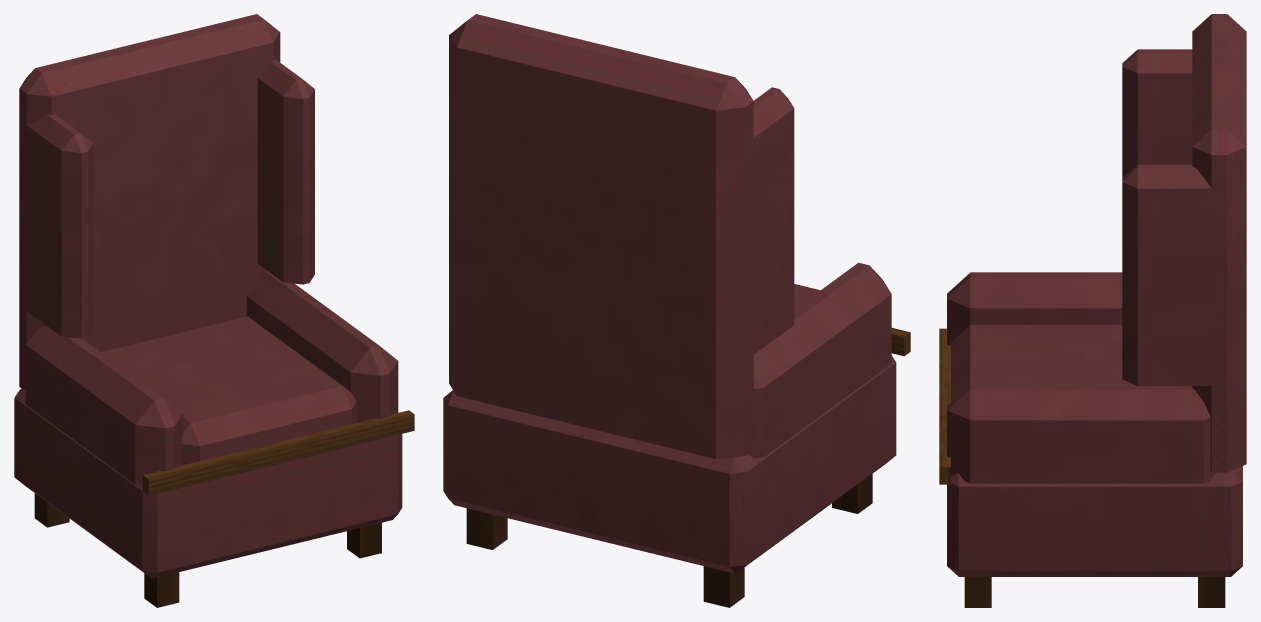
File: armchair.glb
The picture shows the model from 3 angles, left to right: view 1: azimuth 30°, elevation 25°; view 2: azimuth 150°, elevation 25°; view 3: azimuth 270°, elevation 25°; orthographic projection. The views are drawn at different scales.
Visible parts, largest first — view 1: armchair_mesh; view 2: armchair_mesh; view 3: armchair_mesh.
Boxes of the visible parts, left/top/right/bottom form: armchair_mesh: left=14, top=14, right=414, bottom=607; armchair_mesh: left=443, top=14, right=910, bottom=607; armchair_mesh: left=939, top=14, right=1246, bottom=607.
Size of the model in its own units: 0.84 by 1.36 by 0.79.
Materials: 1 (1 with a texture image).
